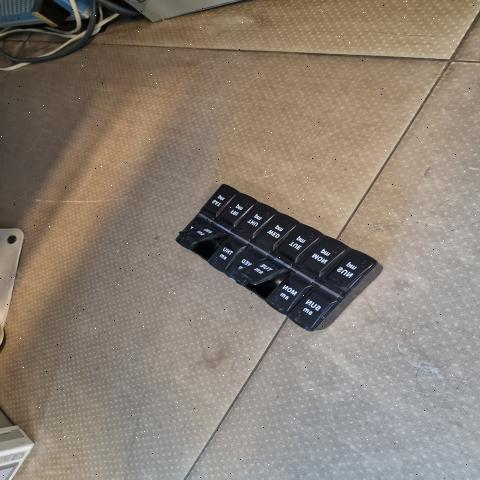Open: (245, 272, 288, 299), (192, 235, 225, 261)
